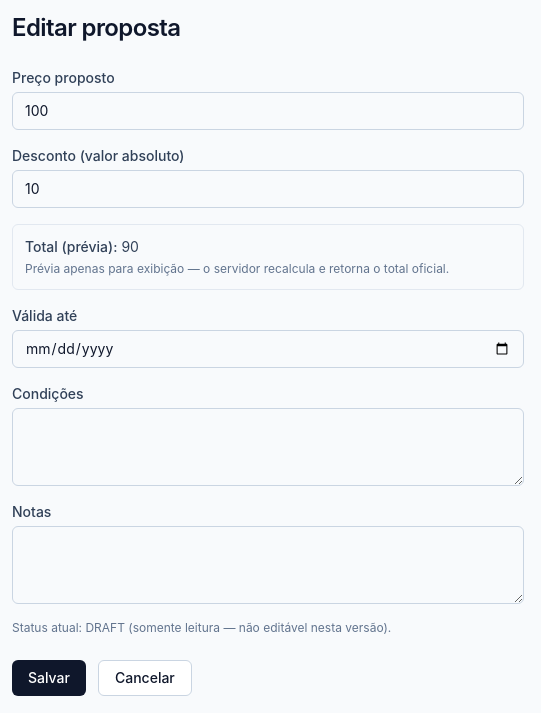
Test: ProposalEditPage › shows recomputed total preview when price/discount change
Replace the text in the number field labelled "Preço proposto" with "200". click: [268, 111]
box: 12,92 -> 524,130
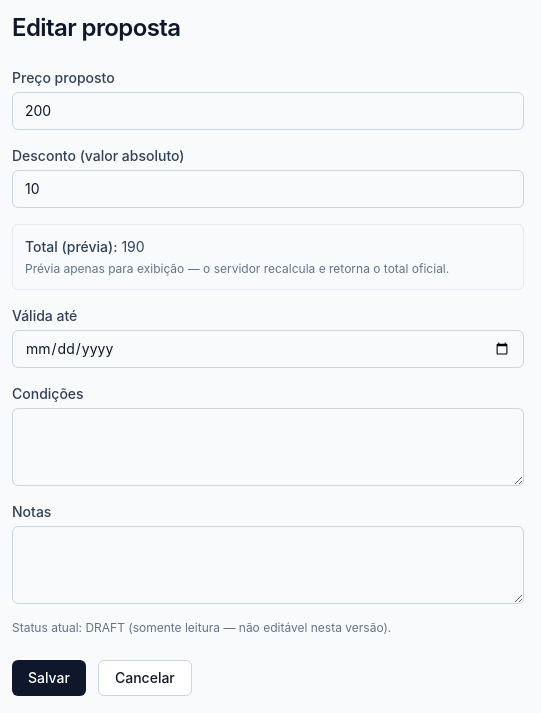
Replace the text in the number field labelled "Desconto (valor absoluto)" with "20". click: [268, 189]
box: 12,170 -> 524,208
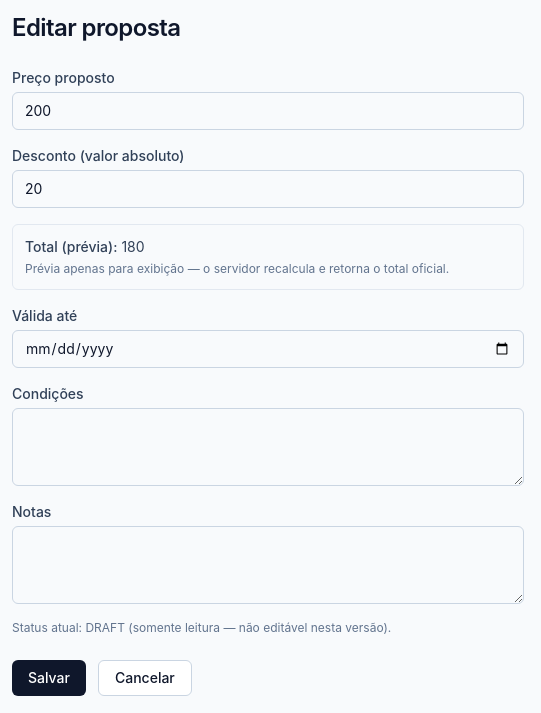
Now the text "180" is shown, box 121,238 -> 145,255
